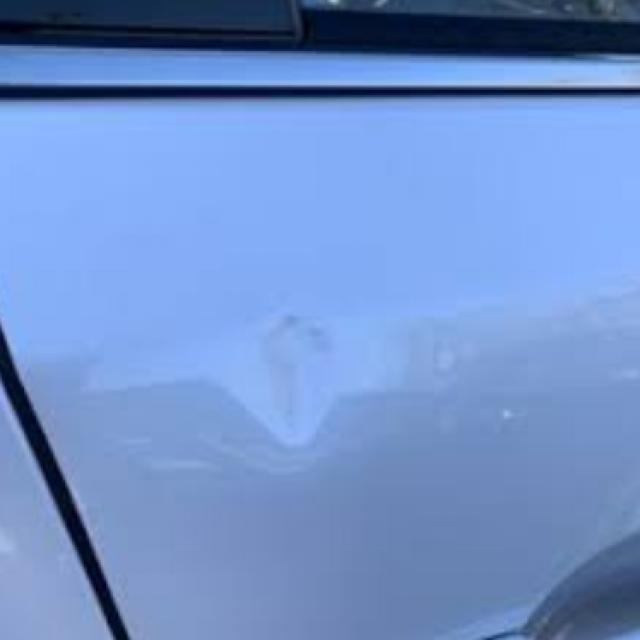dents: (258, 315, 380, 456)
